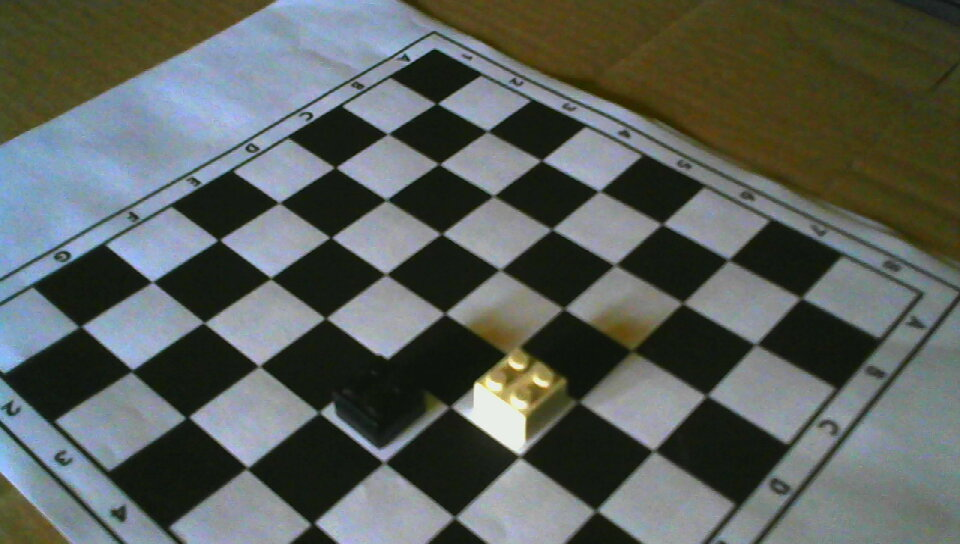bp: (332, 354, 425, 444)
wp: (473, 347, 568, 440)
